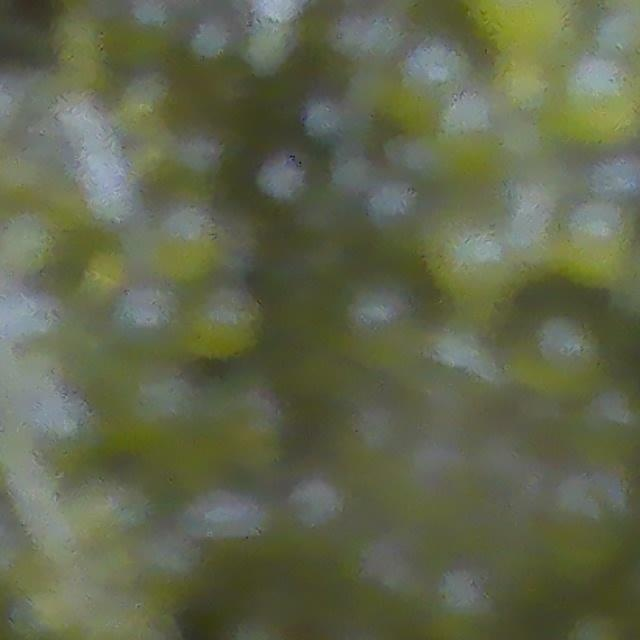SeaGrape: (426, 205, 528, 308), (551, 59, 640, 151), (116, 364, 199, 449), (561, 202, 637, 288), (183, 283, 263, 361), (530, 315, 601, 396), (341, 270, 416, 343), (110, 281, 176, 344)
